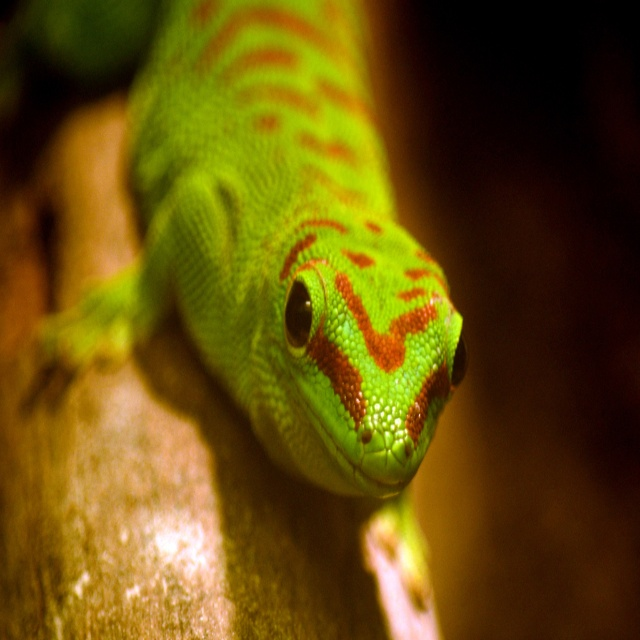Lizard: (39, 68, 486, 574)
